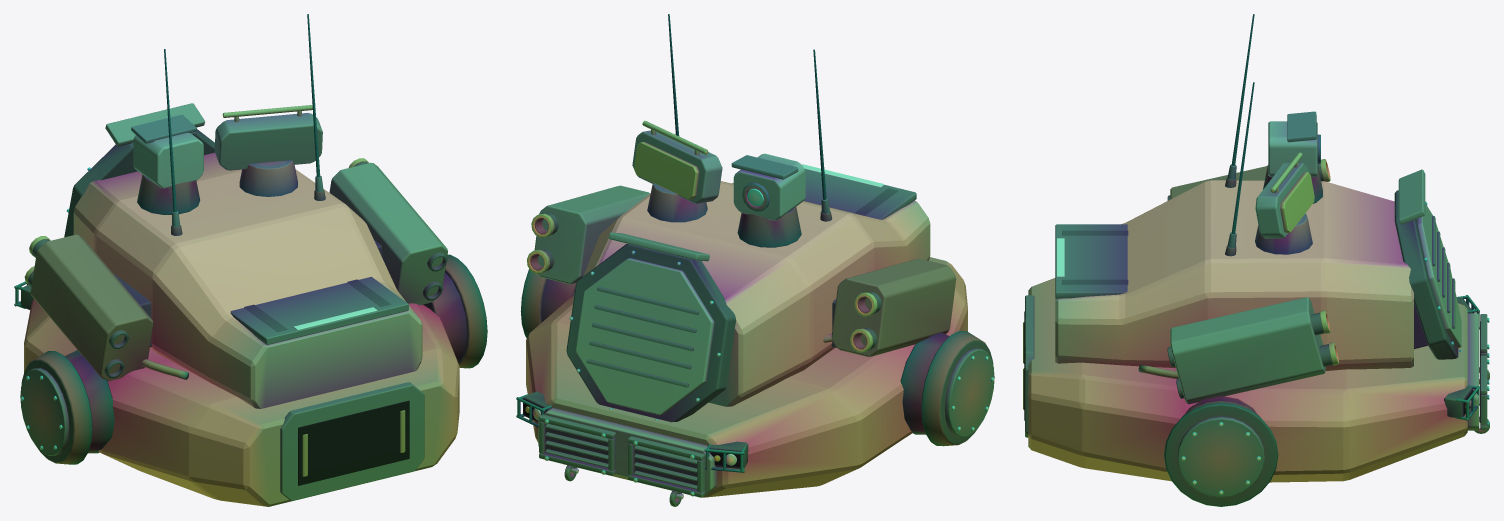
The model's file is core_pantsir_s1.glb.
3 views of the same model, side by side, from view 1: azimuth 30°, elevation 25°; view 2: azimuth 150°, elevation 25°; view 3: azimuth 270°, elevation 25° (orthographic). The views are drawn at different scales.
Parts seen in each view (by area): view 1: Body__armor, Body__armor_sub, Body__gunmetal, Body__dark, Body__armor_oxide, Body__bore, Body__copper, Body__brass; view 2: Body__armor, Body__armor_sub, Body__dark, Body__gunmetal, Body__armor_oxide, Body__accent, Body__brass, Body__chrome; view 3: Body__armor_sub, Body__armor, Body__gunmetal, Body__dark, Body__accent, Body__brass, Body__armor_oxide.
Part boxes in pixels (bbox=[...]): Body__armor: bbox=[73, 133, 422, 408]; Body__armor_sub: bbox=[24, 103, 459, 506]; Body__gunmetal: bbox=[14, 114, 424, 500]; Body__dark: bbox=[21, 14, 487, 464]; Body__armor_oxide: bbox=[30, 234, 153, 381]; Body__bore: bbox=[298, 400, 409, 485]; Body__copper: bbox=[141, 359, 405, 476]; Body__brass: bbox=[24, 105, 368, 285]; Body__armor: bbox=[538, 153, 930, 494]; Body__armor_sub: bbox=[526, 130, 967, 497]; Body__dark: bbox=[520, 14, 993, 489]; Body__gunmetal: bbox=[516, 155, 994, 506]; Body__armor_oxide: bbox=[831, 258, 956, 356]; Body__accent: bbox=[634, 142, 699, 199]; Body__brass: bbox=[527, 120, 877, 352]; Body__chrome: bbox=[544, 250, 994, 498]; Body__armor_sub: bbox=[1028, 162, 1467, 482]; Body__armor: bbox=[1055, 121, 1479, 430]; Body__gunmetal: bbox=[1025, 111, 1489, 497]; Body__dark: bbox=[1062, 14, 1480, 506]; Body__accent: bbox=[1280, 172, 1314, 232]; Body__brass: bbox=[1270, 152, 1339, 365]; Body__armor_oxide: bbox=[1170, 166, 1267, 199].
Size of the model in its own units: 2.13 by 1.94 by 2.08.
